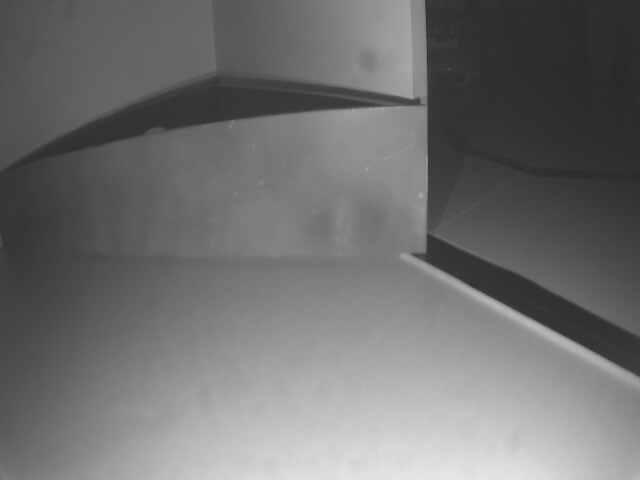Green: (0, 107, 428, 254)
